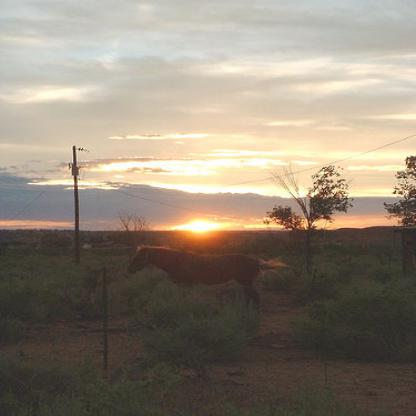horse: (131, 247, 292, 310)
